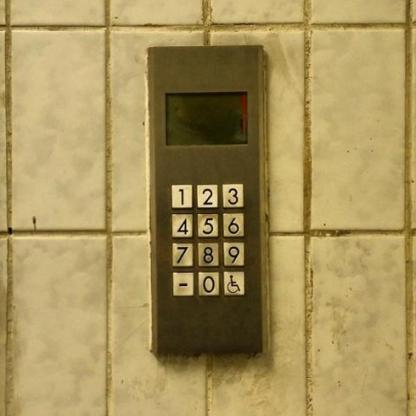-: (170, 271, 194, 296)
0: (197, 270, 220, 296)
1: (169, 183, 193, 207)
2: (196, 183, 218, 208)
3: (221, 183, 243, 207)
4: (170, 212, 194, 238)
5: (196, 212, 218, 237)
6: (220, 212, 244, 236)
7: (170, 241, 194, 266)
8: (196, 241, 219, 266)
9: (222, 240, 244, 265)
CH: (221, 270, 245, 296)
led: (162, 88, 246, 148)
